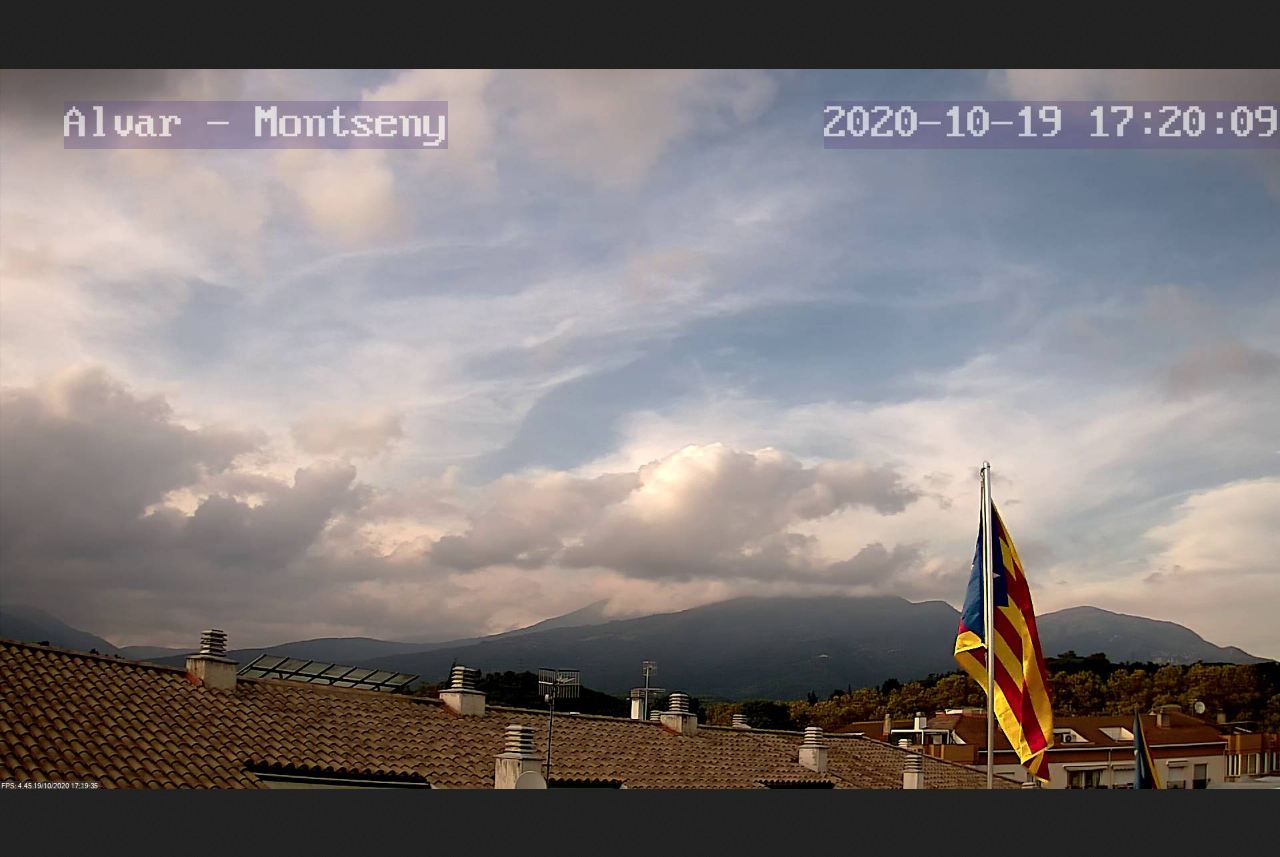no: (955, 487, 1060, 766)
